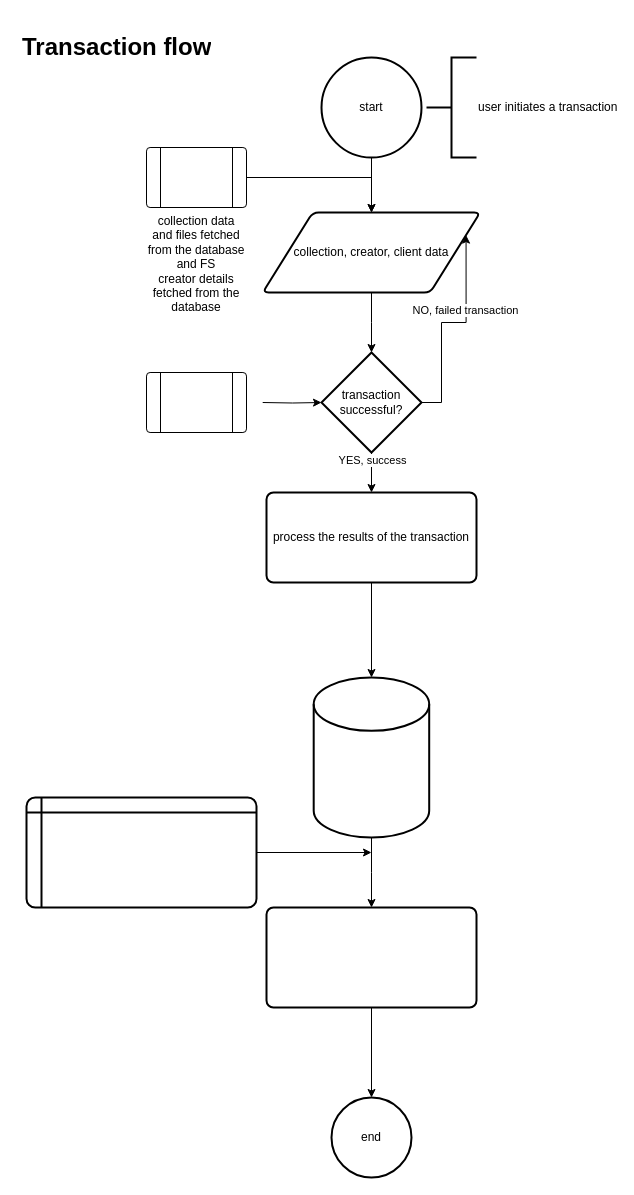
The diagram is 634 pixels wide and 1195 high, and some of its shapes have lost their labels. The shapes that lost their labels are listed below. From the top down, each one's centre as x and y in pixels, then its label:
At [196,402]: "verify security key from user".
At [371,757]: "store transaction details".
At [141,852]: "files of the requested collection are retrieved from the file storage".
At [371,957]: "files are sent to the client {downloadable zip file}".
